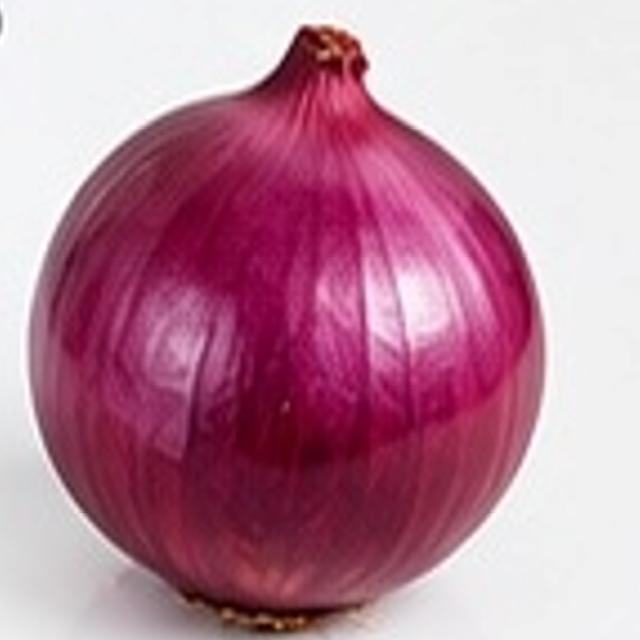healthy: (13, 0, 574, 640), (30, 27, 543, 624), (31, 27, 543, 624)
